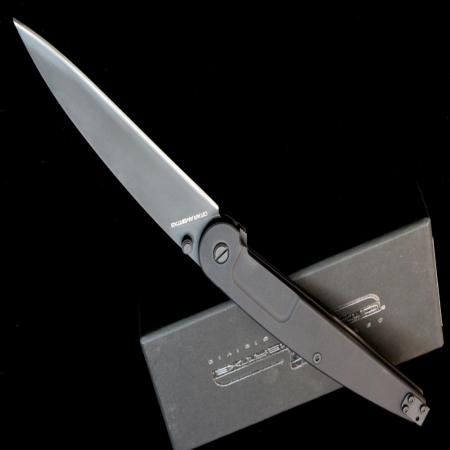long weapon: (9, 9, 221, 270)
